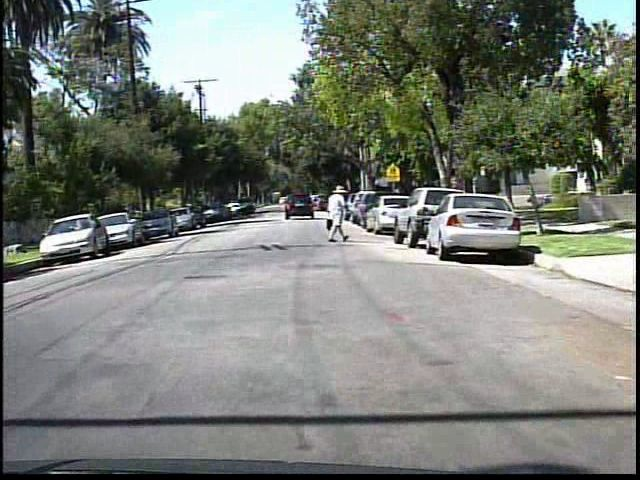person: (321, 184, 354, 245)
